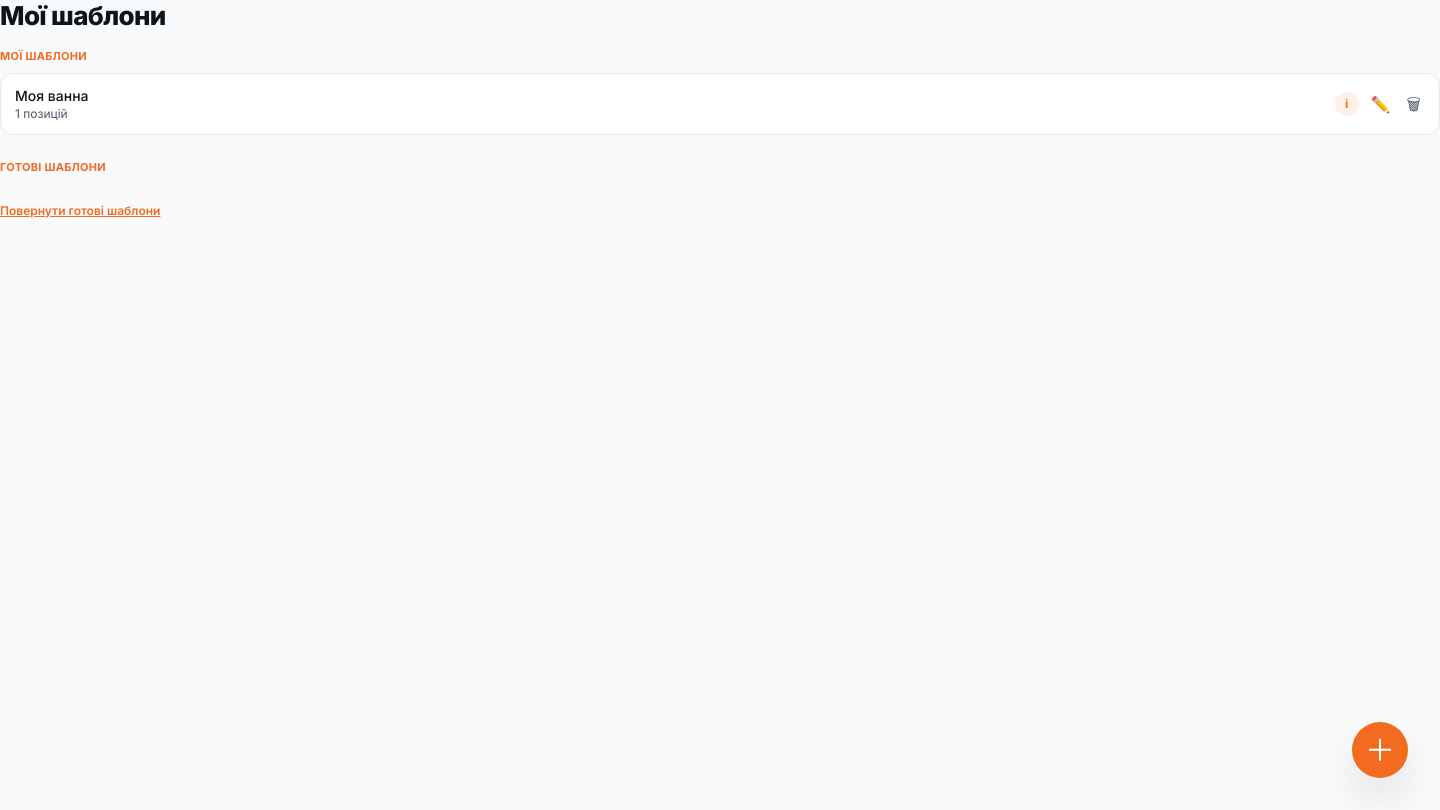
Test: TemplatesPage — the bundle explains itself, read-only › offers the paragraph behind an (i) in the list, so a long one cannot push the row around
Expected: the text "Моя ванна" is shown, [15,86,88,104]
Expected: the text "Q4 — суцільне шпаклювання, під глянець і бокове світло." is not shown
Click the button named "Моя ванна": (1347, 104) [1335,92,1359,116]
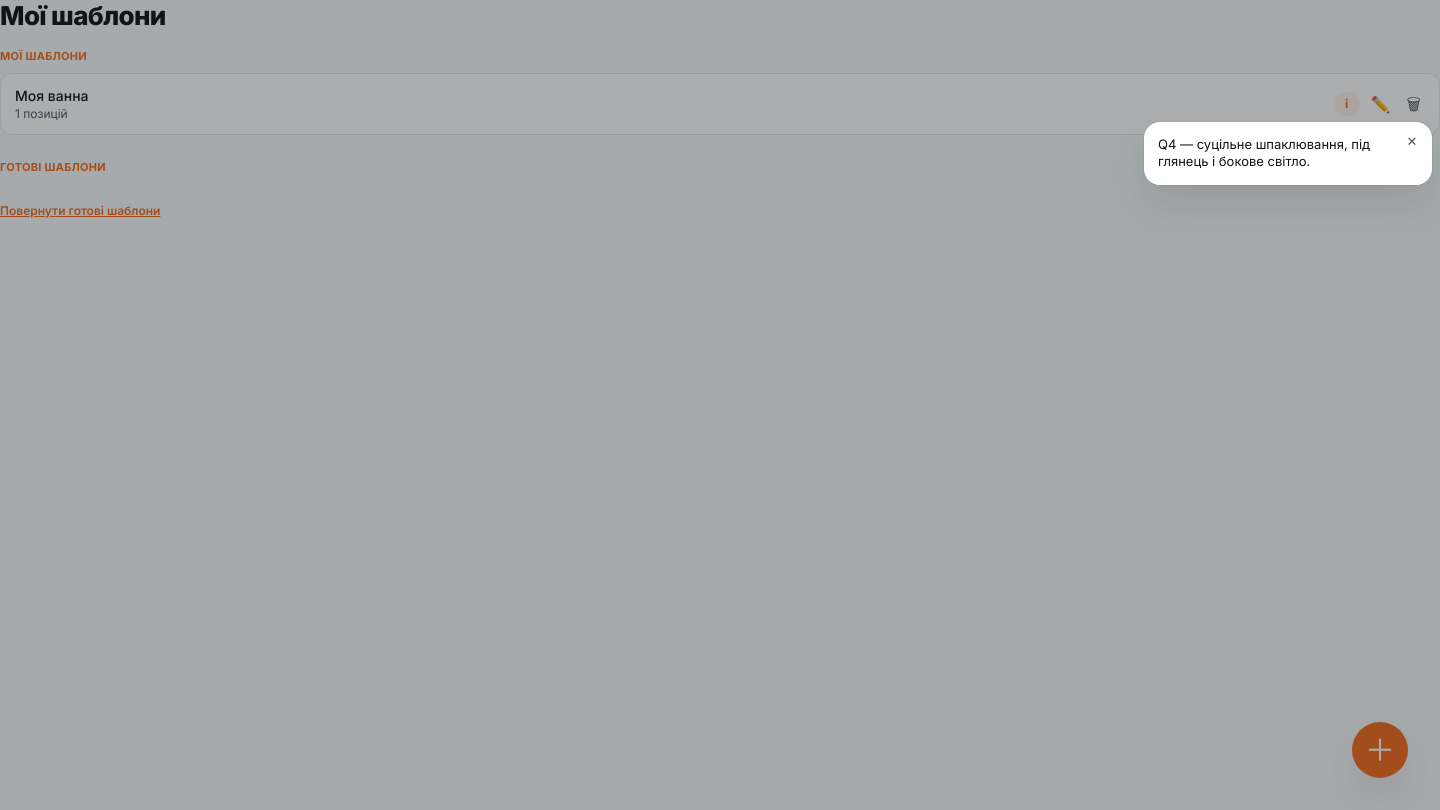
Now the text "Q4 — суцільне шпаклювання, під глянець і бокове світло." is shown, box [1158,136,1370,169]
